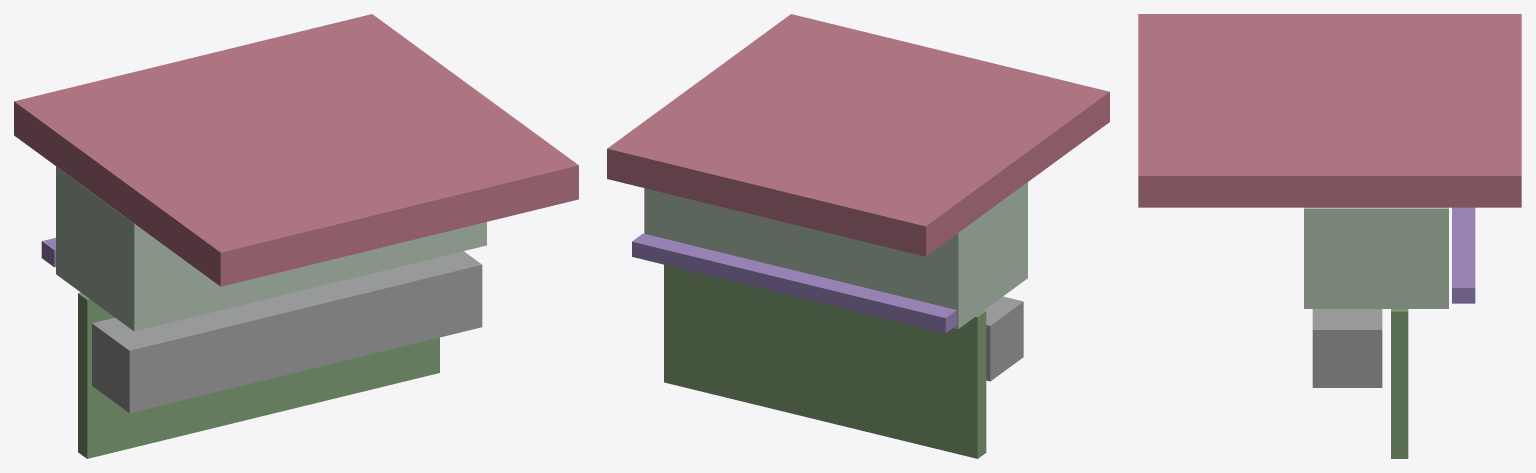
3 views of the same model, side by side, from view 1: azimuth 30°, elevation 25°; view 2: azimuth 150°, elevation 25°; view 3: azimuth 270°, elevation 25° (orthographic). The views are drawn at different scales.
Parts seen in each view (by area): view 1: world; view 2: world; view 3: world.
Boxes of the visible parts, box(x1,y1,x2,y2) form: world: box(14, 14, 578, 458); world: box(607, 14, 1109, 458); world: box(1138, 14, 1521, 458).
Size of the model in its own units: 6.6 by 5.4 by 6.6.
